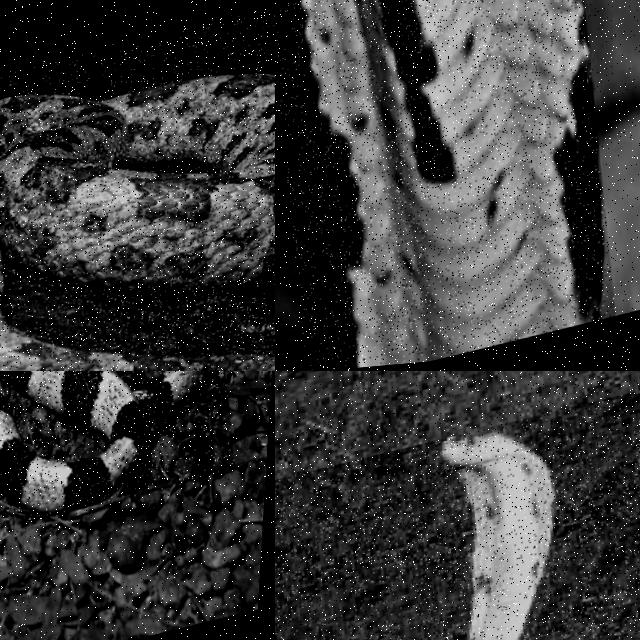Bungarus candidus: (0, 371, 207, 514)
Naja kaouthia: (442, 433, 552, 639)
Naja siamensis: (275, 0, 602, 367)
Ovophis monticola: (0, 74, 274, 297)
snake: (275, 0, 602, 367), (0, 74, 274, 297), (0, 371, 207, 514), (442, 433, 552, 639)
